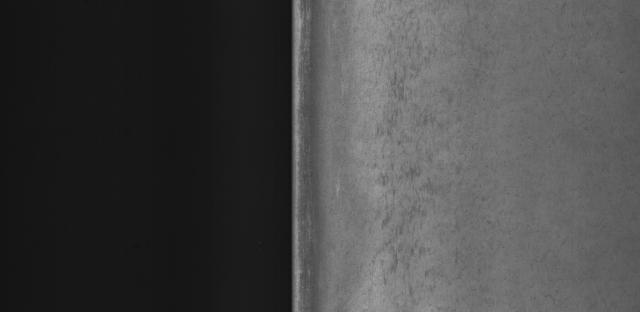silk_spot: (367, 18, 483, 300)
